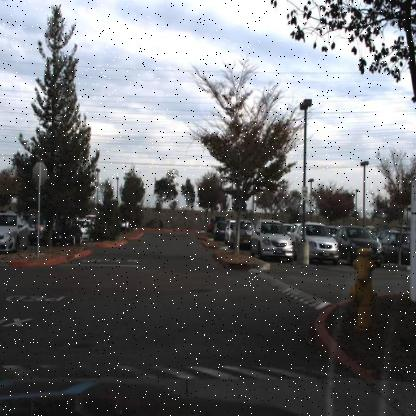car: (335, 224, 382, 263), (250, 220, 294, 261), (294, 222, 338, 261), (0, 210, 31, 254), (380, 228, 416, 265), (0, 214, 28, 256), (50, 216, 81, 246), (230, 218, 257, 249), (230, 220, 253, 250), (26, 215, 47, 245), (28, 216, 46, 247), (77, 219, 94, 244), (211, 219, 226, 242), (223, 216, 235, 244), (80, 224, 91, 245), (214, 224, 226, 242)
